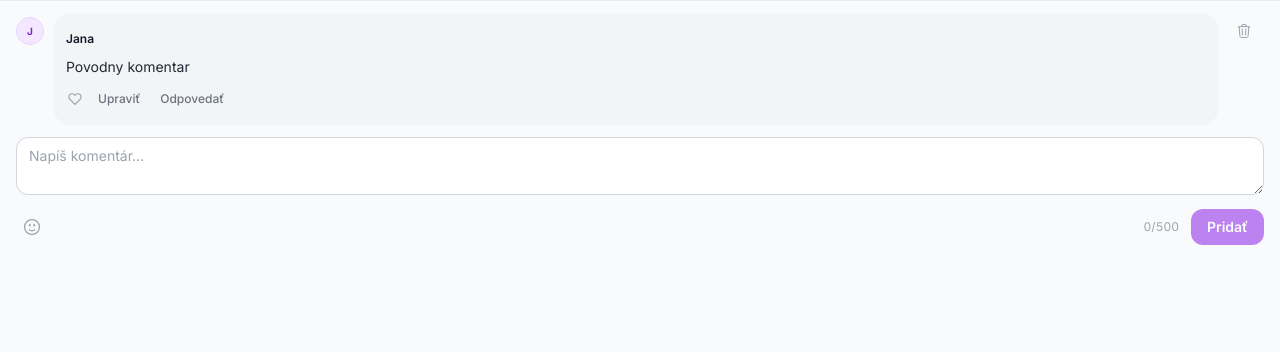
Scenario: inline úprava › replaces the text with an inline field and saves it
Expected: the text "Povodny komentar" is shown, [66,58,190,75]
Click the button with test id "feed-comment-edit-1" at (119, 99), box [92,81,146,117]
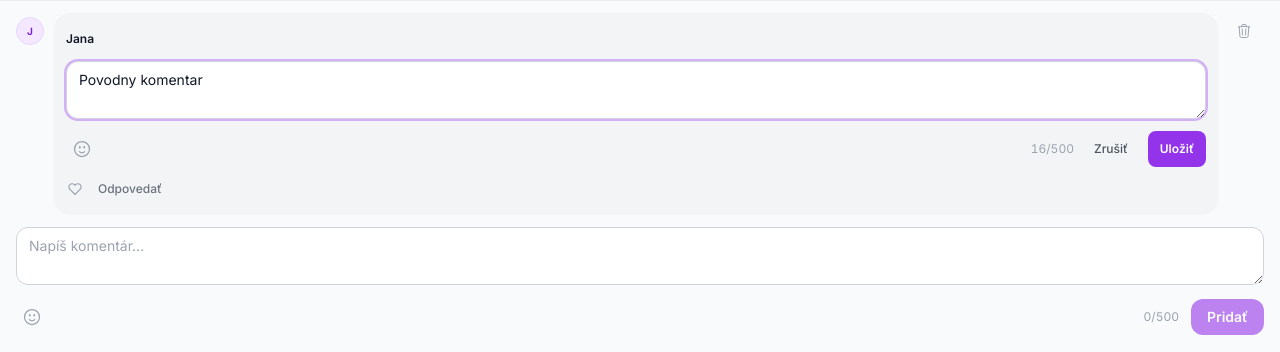
Expected: the text box named "Upraviť" holds "Povodny komentar"
Replace the text in the text box named "Upraviť" with "Upraveny komentar" at (636, 90), box [66,61,1206,119]
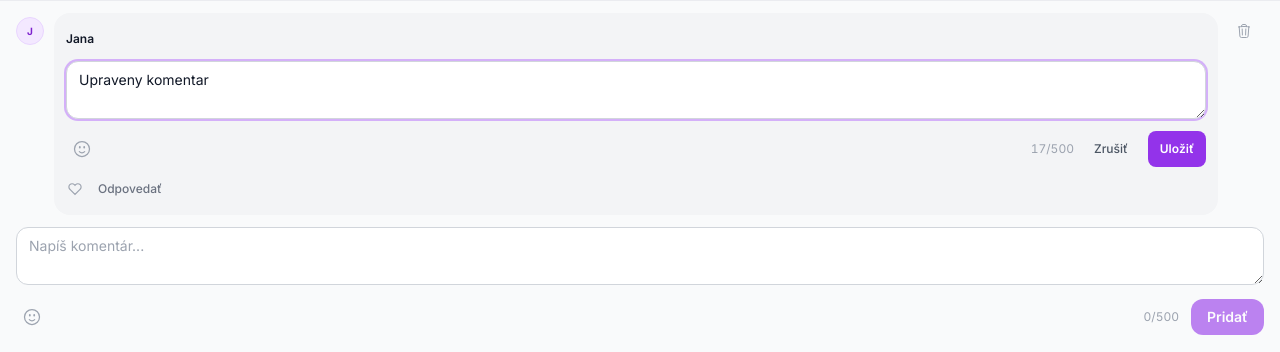
Click the button with test id "feed-comment-edit-submit" at (1177, 149), box [1148,131,1206,167]
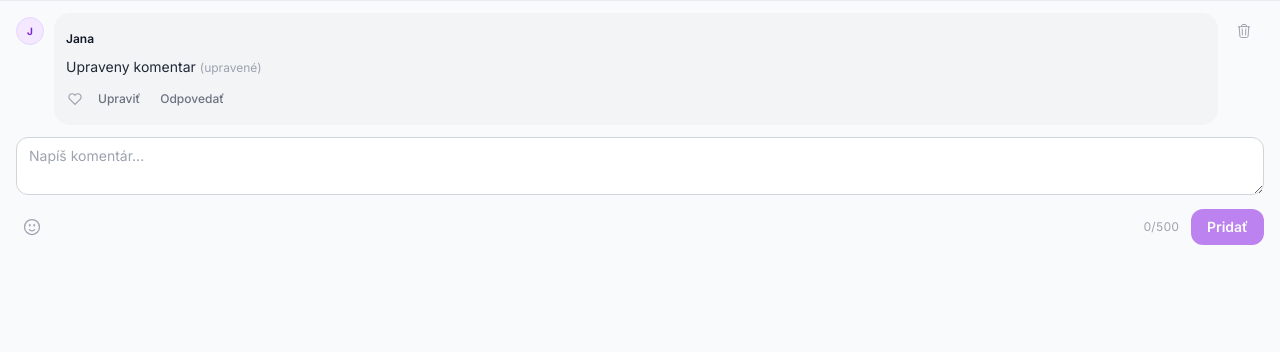
Expected: the text "Upraveny komentar" is shown, [66,58,196,75]
Expected: the element with test id "feed-comment-edit-composer-1" is gone
